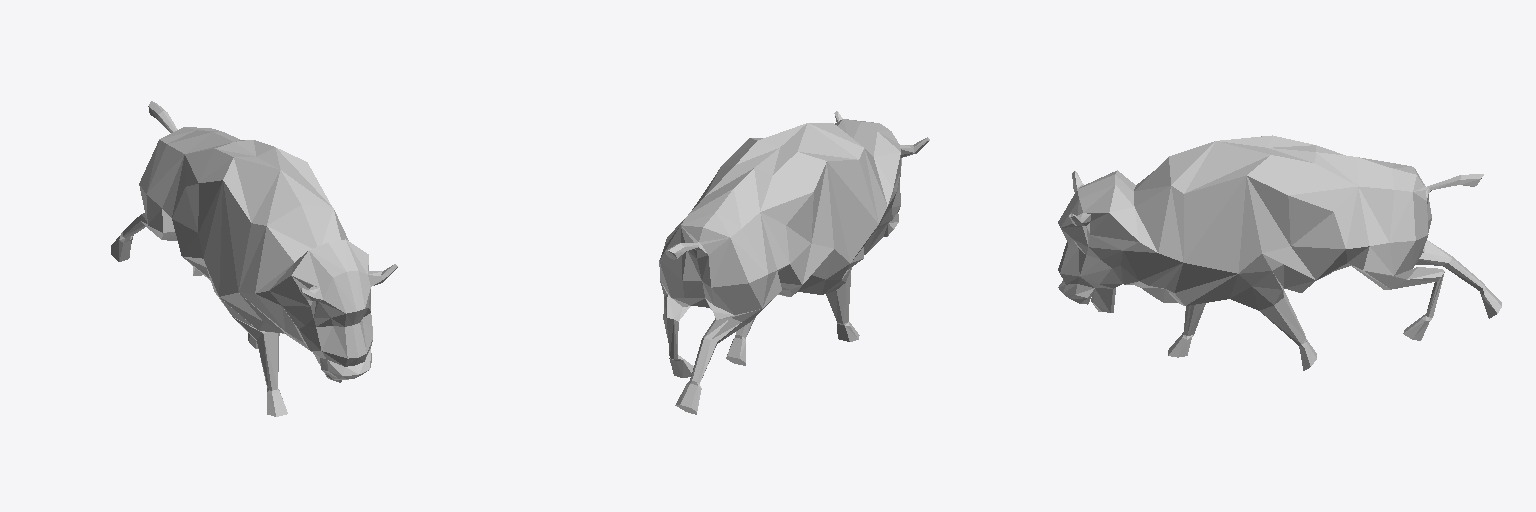
The model's file is bison_013.obj.
3 views of the same model, side by side, from view 1: azimuth 30°, elevation 25°; view 2: azimuth 150°, elevation 25°; view 3: azimuth 270°, elevation 25° (orthographic).
Parts seen in each view (by area): view 1: comp_bison_rig:bison_body comp_bison_rig:bison; view 2: comp_bison_rig:bison_body comp_bison_rig:bison; view 3: comp_bison_rig:bison_body comp_bison_rig:bison.
Boxes of the visible parts, x1,y1,x2,y2 form: comp_bison_rig:bison_body comp_bison_rig:bison: [111, 101, 397, 416]; comp_bison_rig:bison_body comp_bison_rig:bison: [659, 111, 929, 414]; comp_bison_rig:bison_body comp_bison_rig:bison: [1058, 135, 1501, 370].
Bounding box in the file's own units: 113 × 188 × 339.